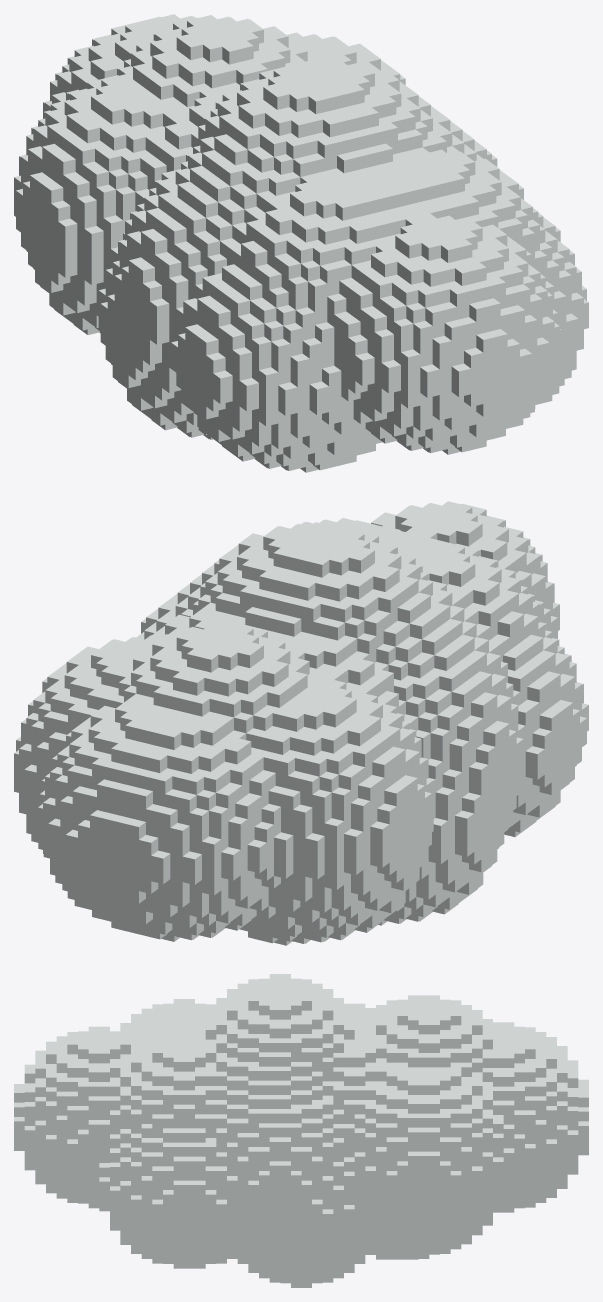
Rendered from Cloud1.obj.
3 views of the same model, one above another, from view 1: azimuth 30°, elevation 25°; view 2: azimuth 150°, elevation 25°; view 3: azimuth 270°, elevation 25° (orthographic). The views are drawn at different scales.
Visible parts, largest first — view 1: Cloud1; view 2: Cloud1; view 3: Cloud1.
Boxes of the visible parts, <box> form: Cloud1: <box>14,14,588,472</box>; Cloud1: <box>14,501,588,945</box>; Cloud1: <box>14,974,588,1287</box>.
Size of the model in its own units: 30 by 26 by 54.
Materials: 1 (1 with a texture image).
